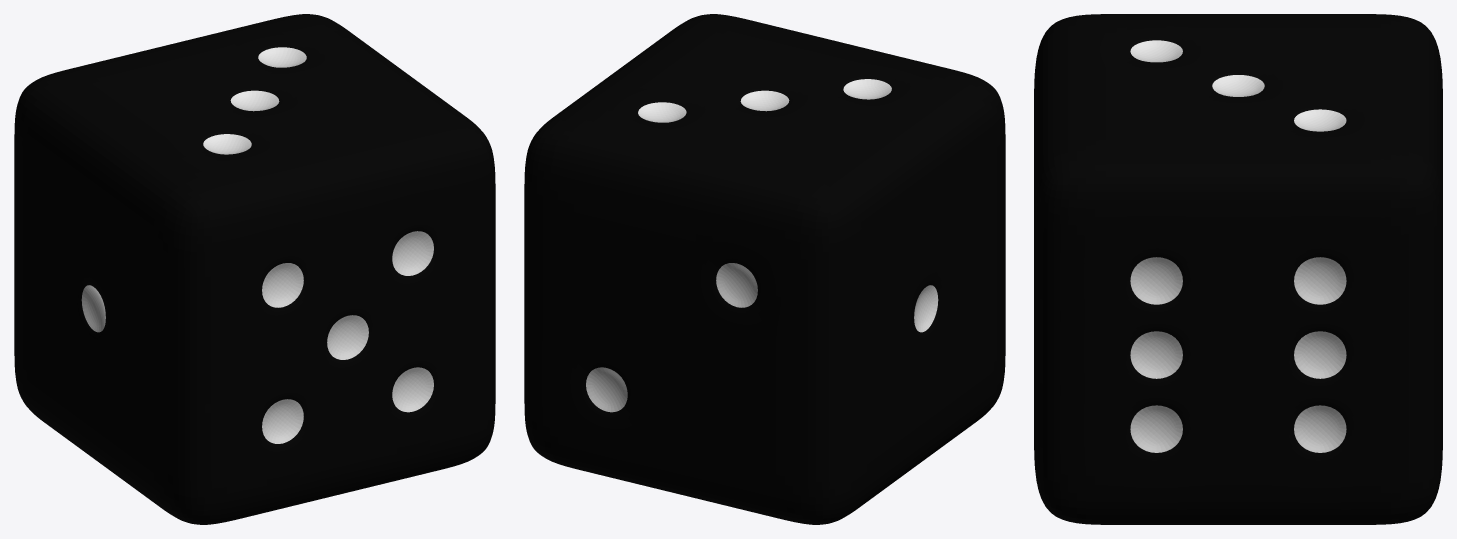
File: GameCube.fbx
3 views of the same model, side by side, from view 1: azimuth 30°, elevation 25°; view 2: azimuth 150°, elevation 25°; view 3: azimuth 270°, elevation 25° (orthographic). The views are drawn at different scales.
Parts seen in each view (by area): view 1: Cube; view 2: Cube; view 3: Cube.
Part boxes in pixels (bbox=[...]): Cube: bbox=[14, 14, 495, 524]; Cube: bbox=[524, 14, 1005, 524]; Cube: bbox=[1034, 14, 1442, 524].
Size of the model in its own units: 200 by 200 by 200.
2 materials, 1 textured.
